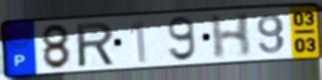1: (128, 19, 147, 64)
8: (39, 23, 74, 71)
9: (165, 14, 198, 64), (255, 13, 285, 55)
H: (209, 11, 253, 61)
R: (73, 20, 117, 69)
